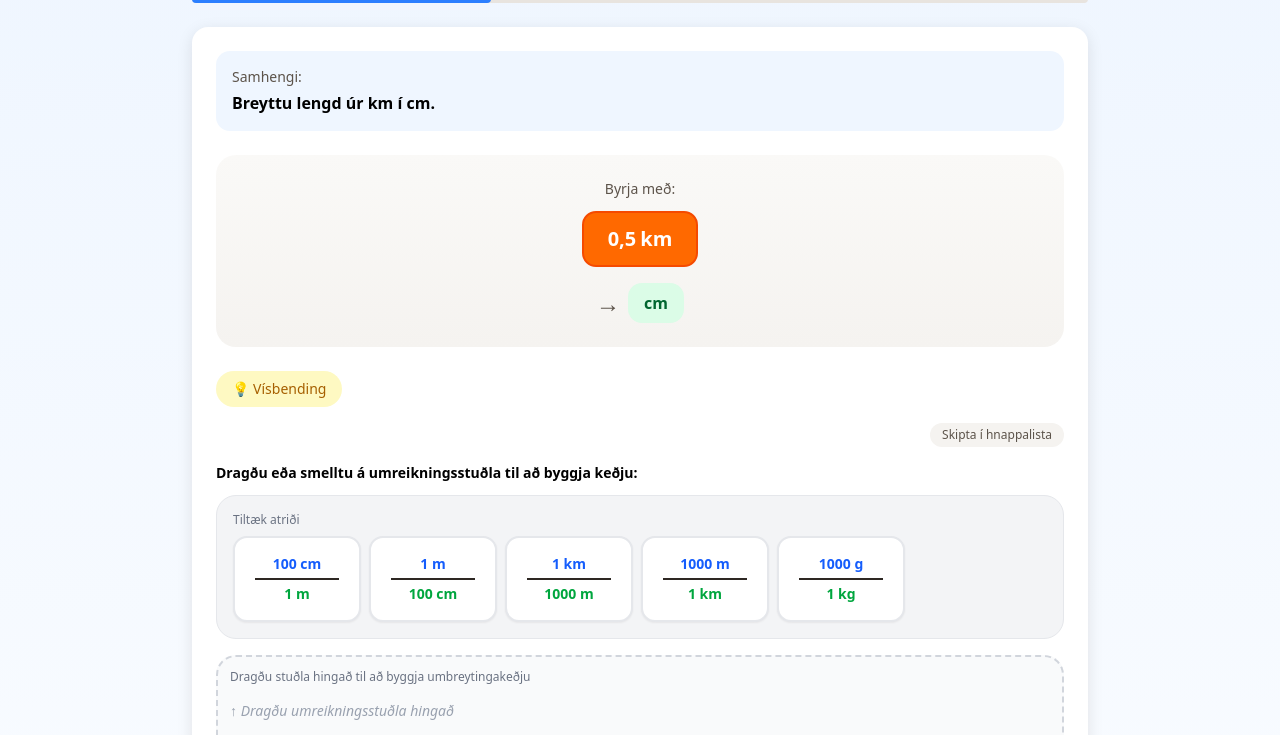
Test: Level 2 draws the correct chain cancelling to its target unit › L2-6
Click the button "Skipta í hnappalista" at (997, 435), box [930,423,1064,447]
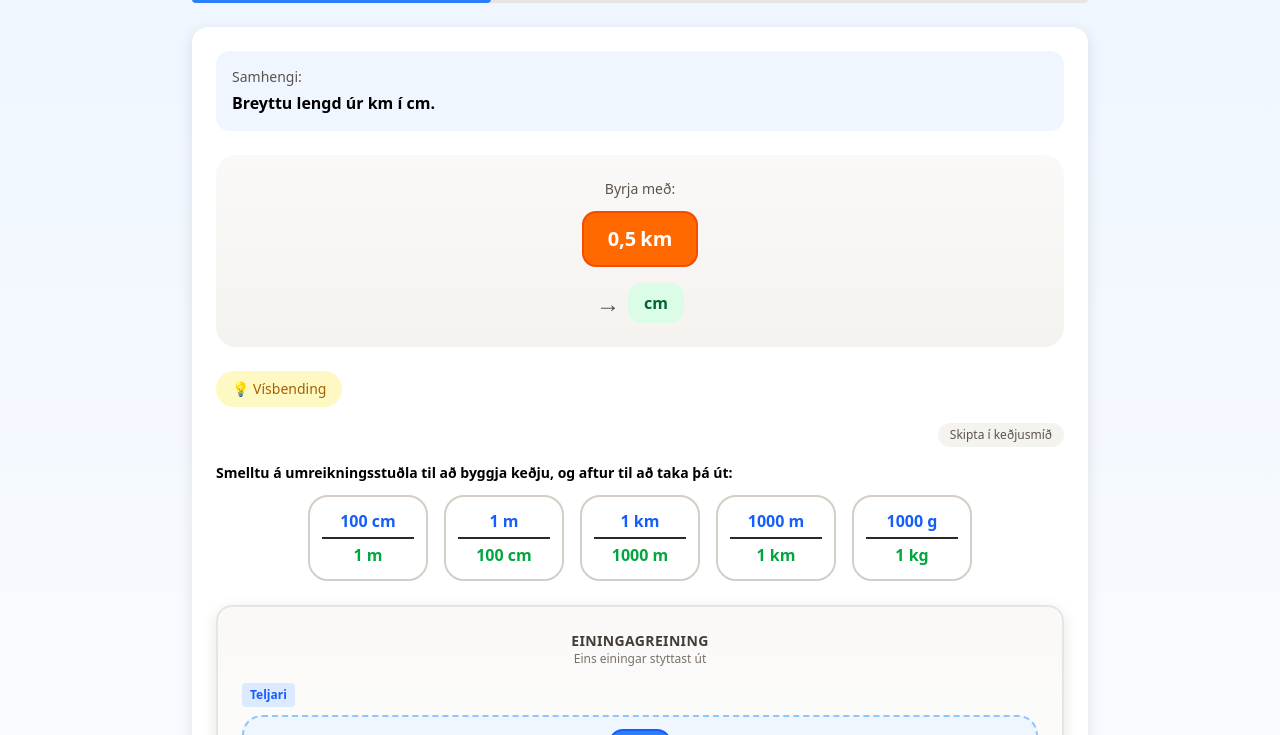
Click the button "1000 m 1 km" at (776, 538), box [716,495,836,581]
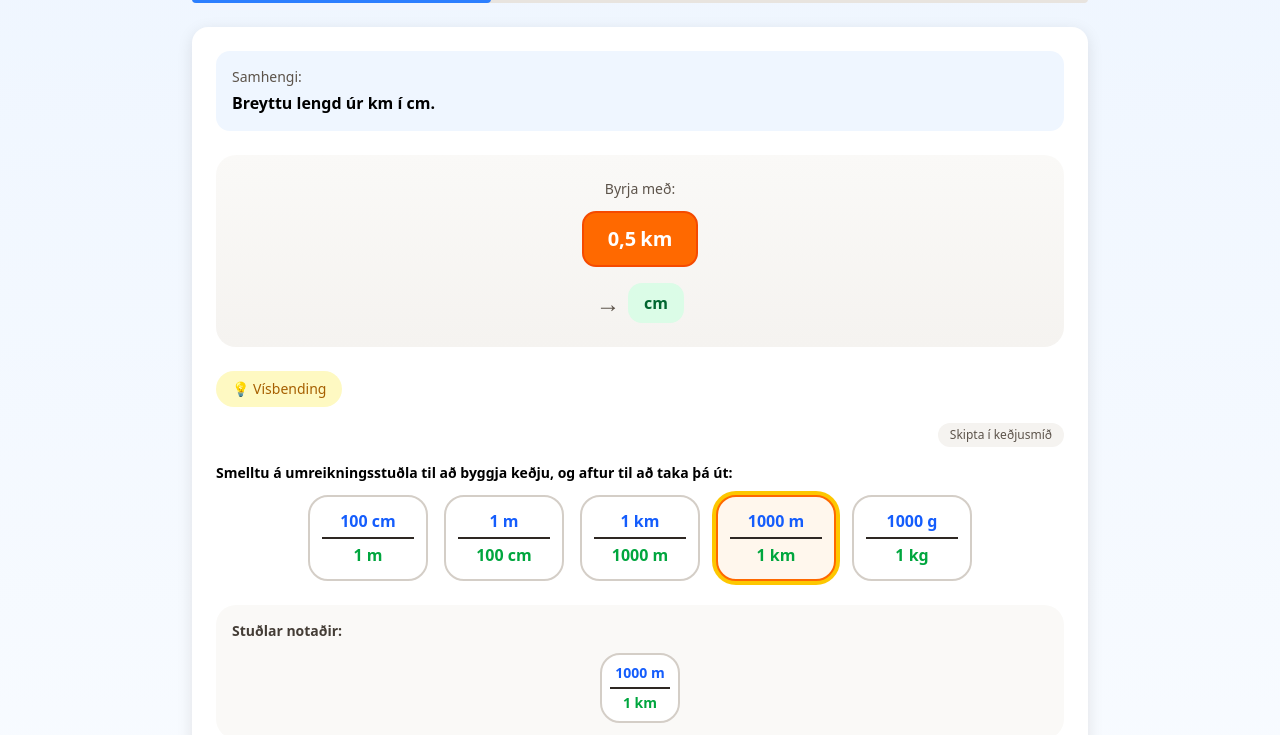
Click the button "100 cm 1 m" at (368, 538), box [308,495,428,581]
Wait 8000 ms
(page scrolled)
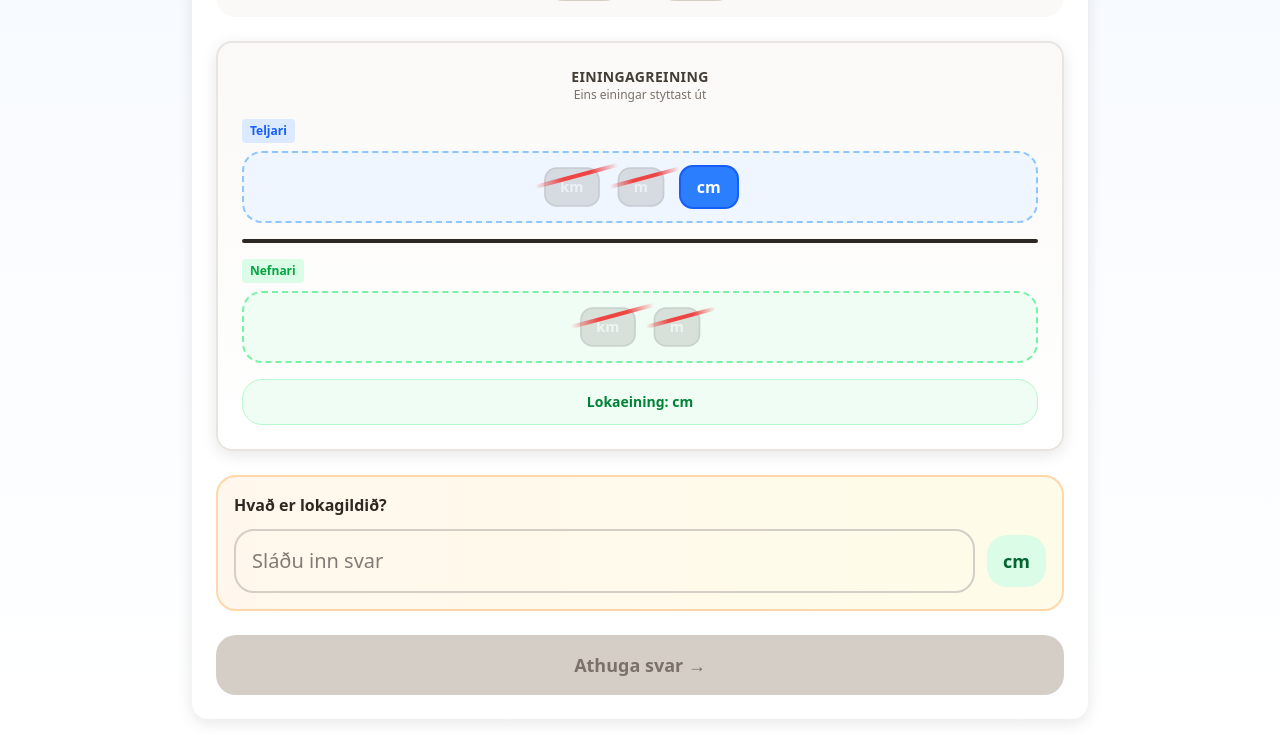
Type "50000" into the field with placeholder "Sláðu inn svar" at (605, 561), box [234,529,975,593]
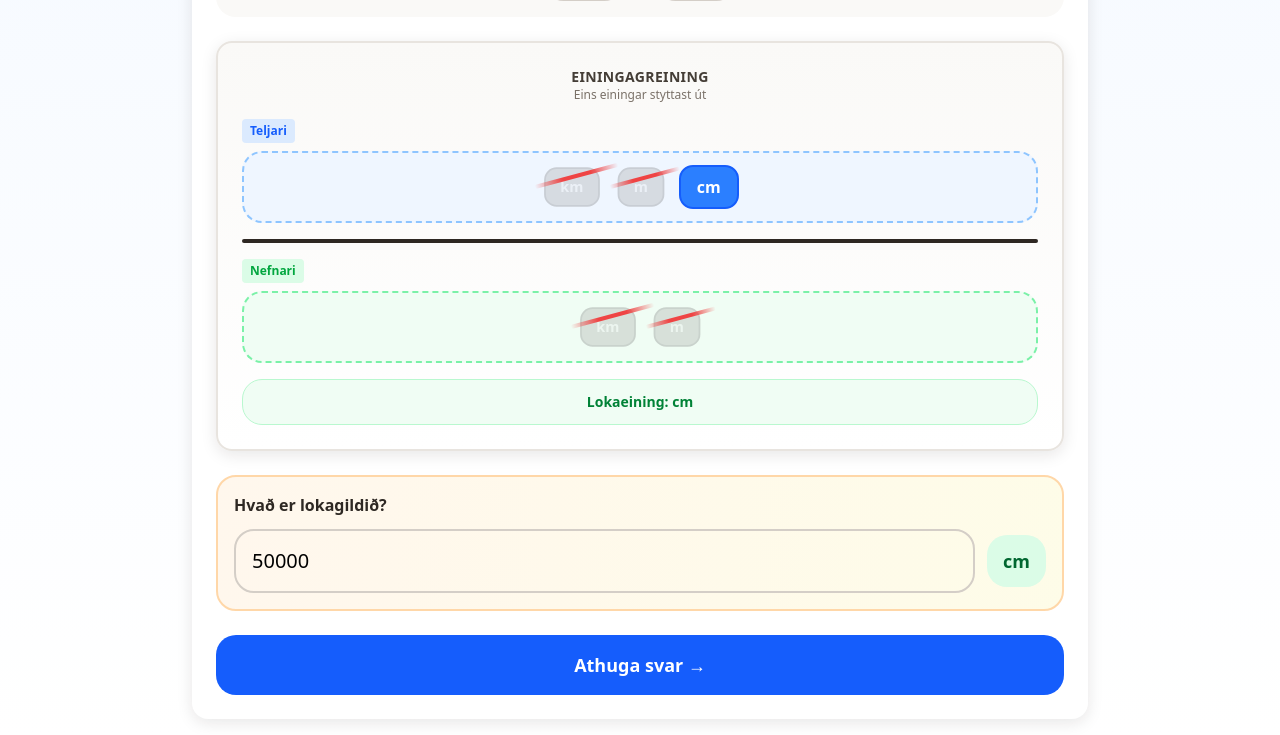
Click the button "Athuga svar →" at (640, 665), box [216,635,1064,695]
(page scrolled)
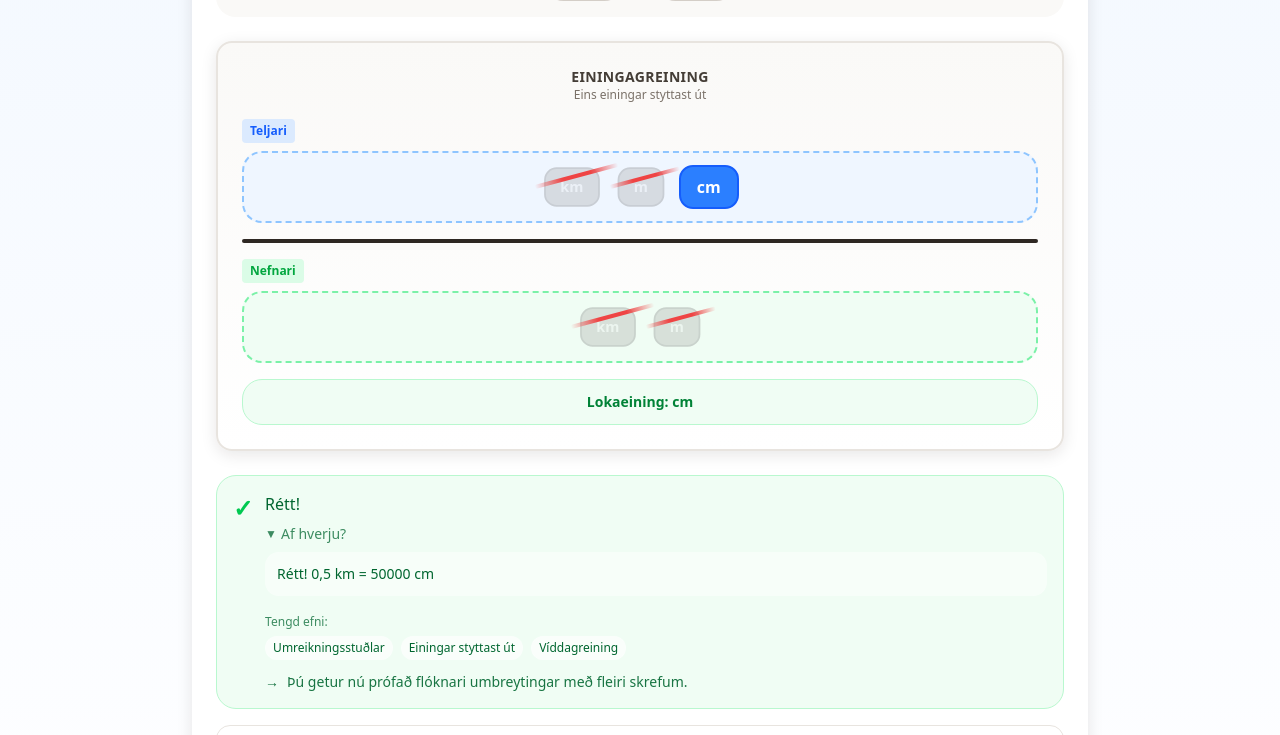
Now the text "Rétt! 0,5 km = 50000 cm" is shown, box [265,552,1047,596]
